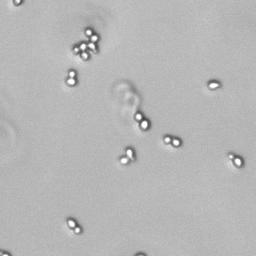budding: (133, 110, 150, 131), (66, 218, 83, 235), (227, 152, 244, 169), (119, 147, 135, 164), (163, 134, 182, 148), (64, 69, 78, 86)
cluster: (71, 27, 103, 62)
individual: (207, 79, 220, 91), (13, 1, 23, 6)
